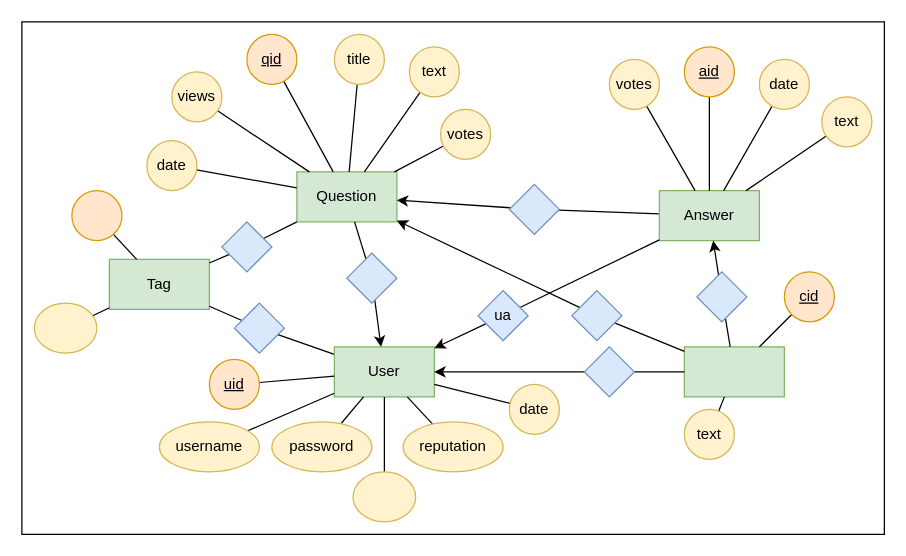
The diagram is 906 pixels wide and 556 high, and some of its shapes have lost their labels. The box of each missing label's shape, as (x1, y1, x2, y2) in pixels:
ac: (696, 271, 747, 322)
Comment: (683, 346, 784, 397)
email: (352, 471, 416, 522)
name: (33, 302, 97, 353)
qa: (508, 183, 559, 234)
qc: (571, 289, 622, 341)
qt: (221, 221, 272, 272)
tid: (71, 189, 122, 241)
uc: (583, 346, 634, 397)
uq: (346, 252, 397, 303)
ut: (233, 302, 284, 353)
